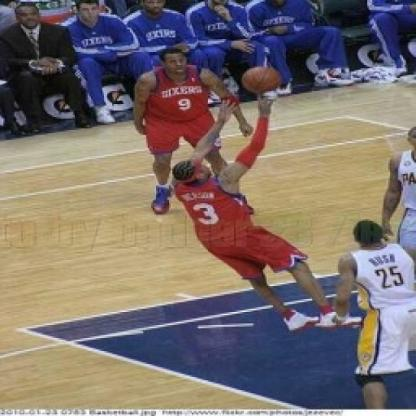basketball: (239, 63, 283, 94)
